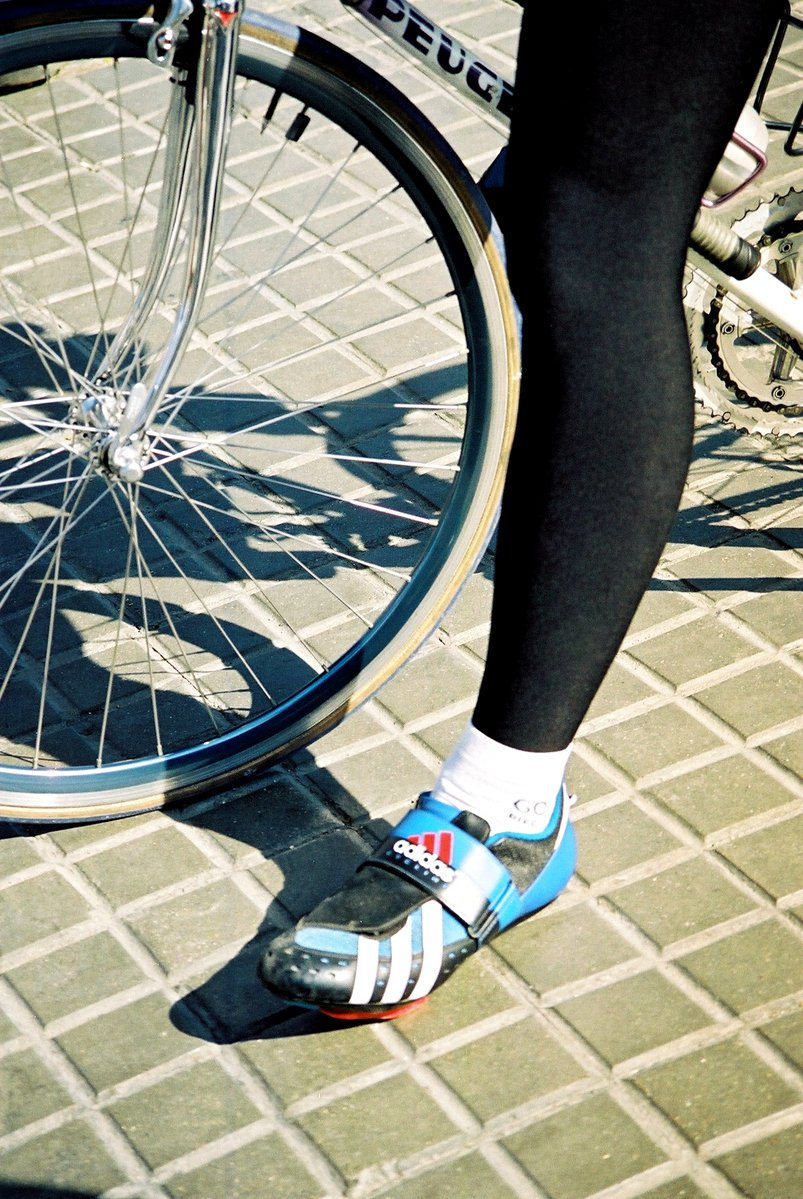Bicycle: (1, 12, 802, 1199)
